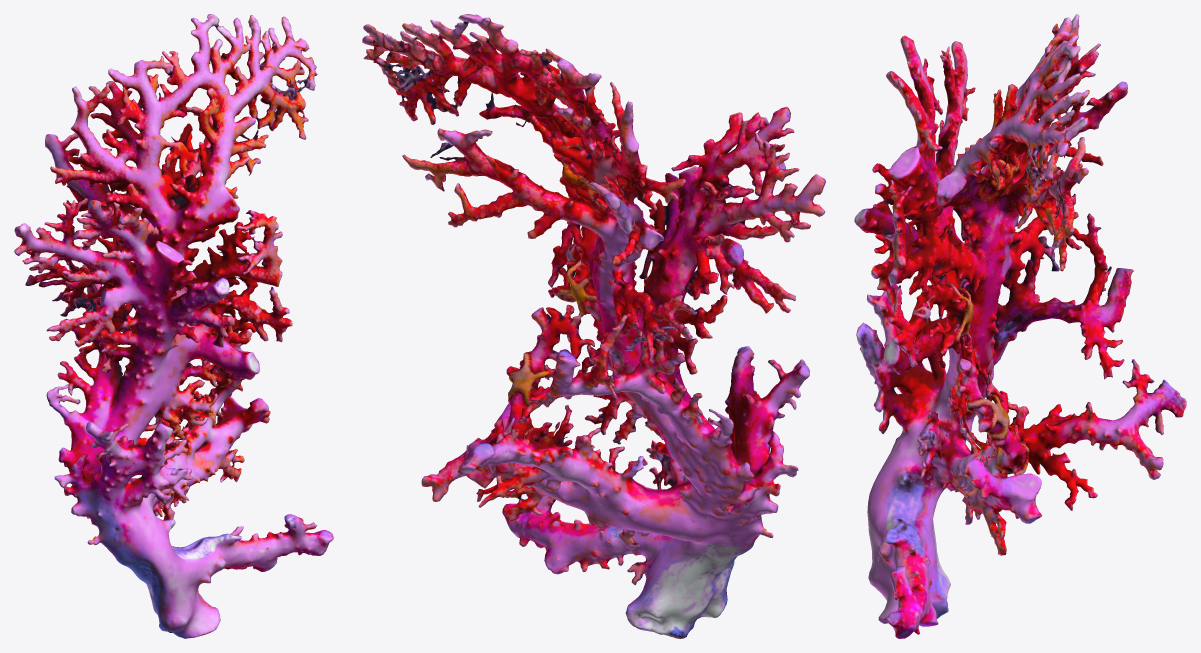
The model's file is Stylaster brochi pink.fbx.
3 views of the same model, side by side, from view 1: azimuth 30°, elevation 25°; view 2: azimuth 150°, elevation 25°; view 3: azimuth 270°, elevation 25° (orthographic). The views are drawn at different scales.
Visible parts, largest first — view 1: Mesh_0.001; view 2: Mesh_0.001; view 3: Mesh_0.001.
Boxes of the visible parts, x1,y1,x2,y2 form: Mesh_0.001: (14,14,333,638); Mesh_0.001: (362,14,825,638); Mesh_0.001: (854,14,1186,638).
Size of the model in its own units: 629 by 953 by 455.
1 material, 1 textured.
